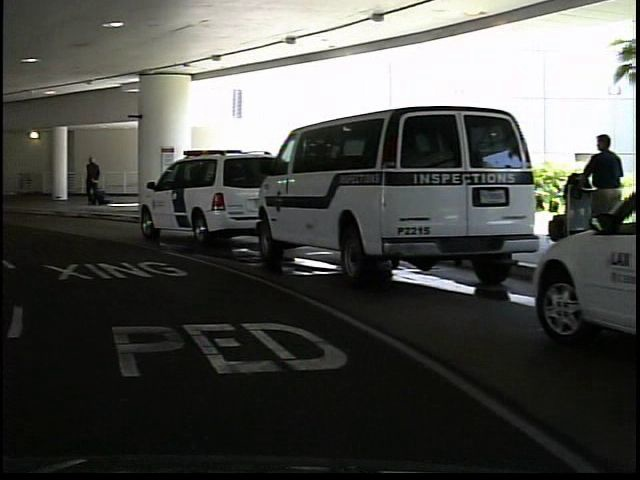person: (577, 129, 620, 265), (78, 153, 103, 213)
